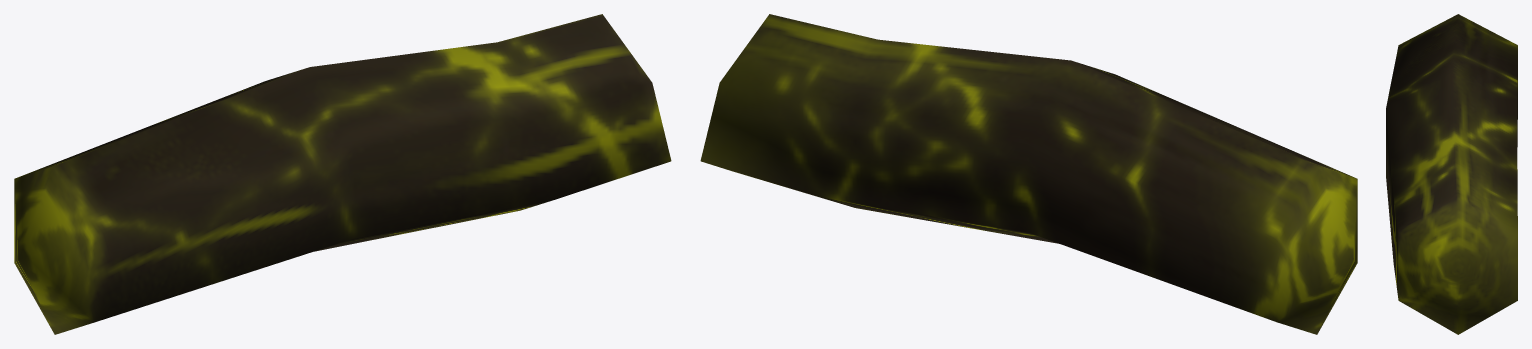
Rendered from O_LogAsh_B.fbx.
3 renders of one model, left to right at view 1: azimuth 30°, elevation 25°; view 2: azimuth 150°, elevation 25°; view 3: azimuth 270°, elevation 25°, orthographic. The views are drawn at different scales.
Parts seen in each view (by area): view 1: O_LogAsh_B; view 2: O_LogAsh_B; view 3: O_LogAsh_B.
Boxes of the visible parts, left/top/right/bottom form: O_LogAsh_B: left=14, top=14, right=671, bottom=334; O_LogAsh_B: left=700, top=14, right=1357, bottom=334; O_LogAsh_B: left=1386, top=14, right=1517, bottom=334.
Size of the model in its own units: 90.6 by 29.25 by 22.5.
